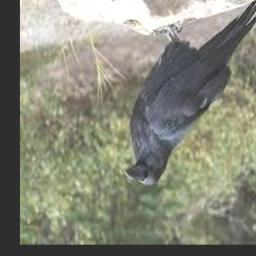Crow: (124, 0, 256, 186)
